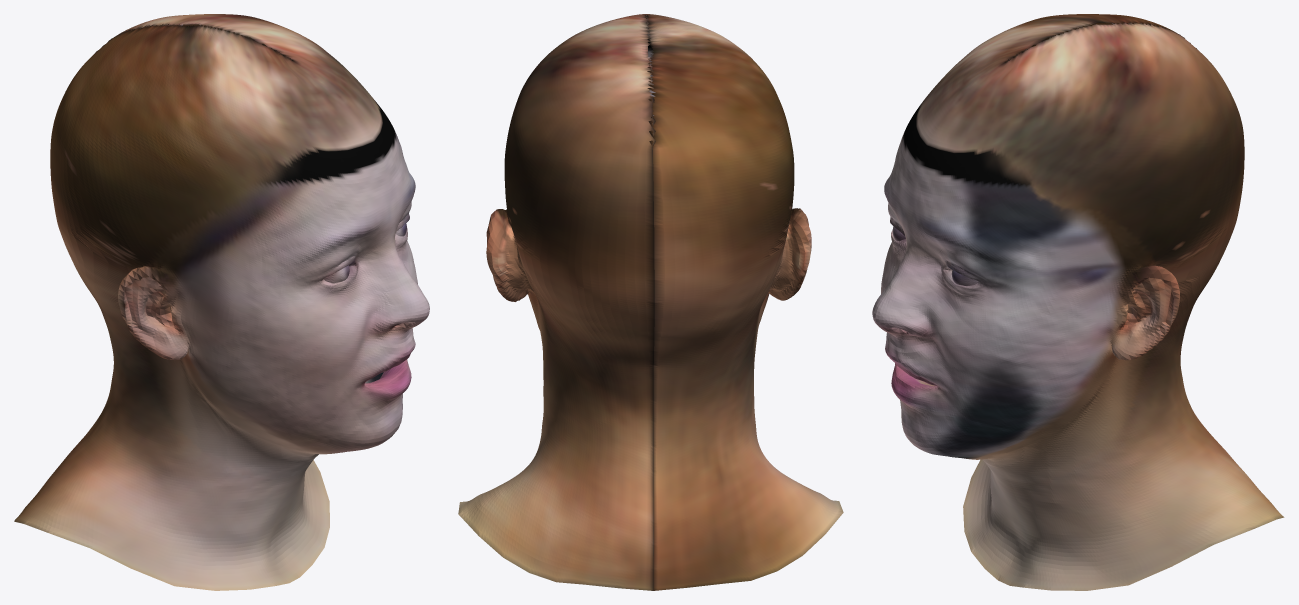
File: cheo1_frame0004_detail.obj
3 renders of one model, left to right at view 1: azimuth 30°, elevation 25°; view 2: azimuth 150°, elevation 25°; view 3: azimuth 270°, elevation 25°, orthographic.
Bounding box in the file's own units: 0.213 × 0.3204 × 0.2252.
